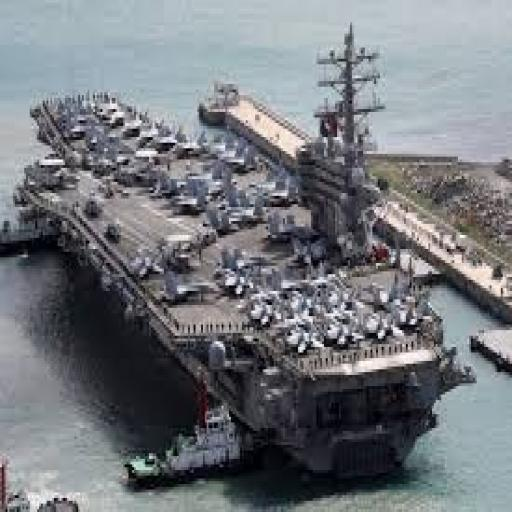Portanaves: (7, 21, 478, 499)
